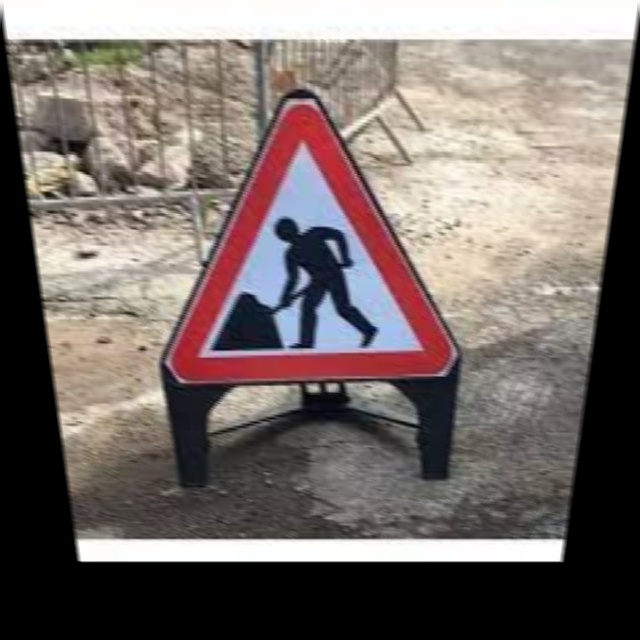Men_at_Work: (136, 86, 478, 378)
